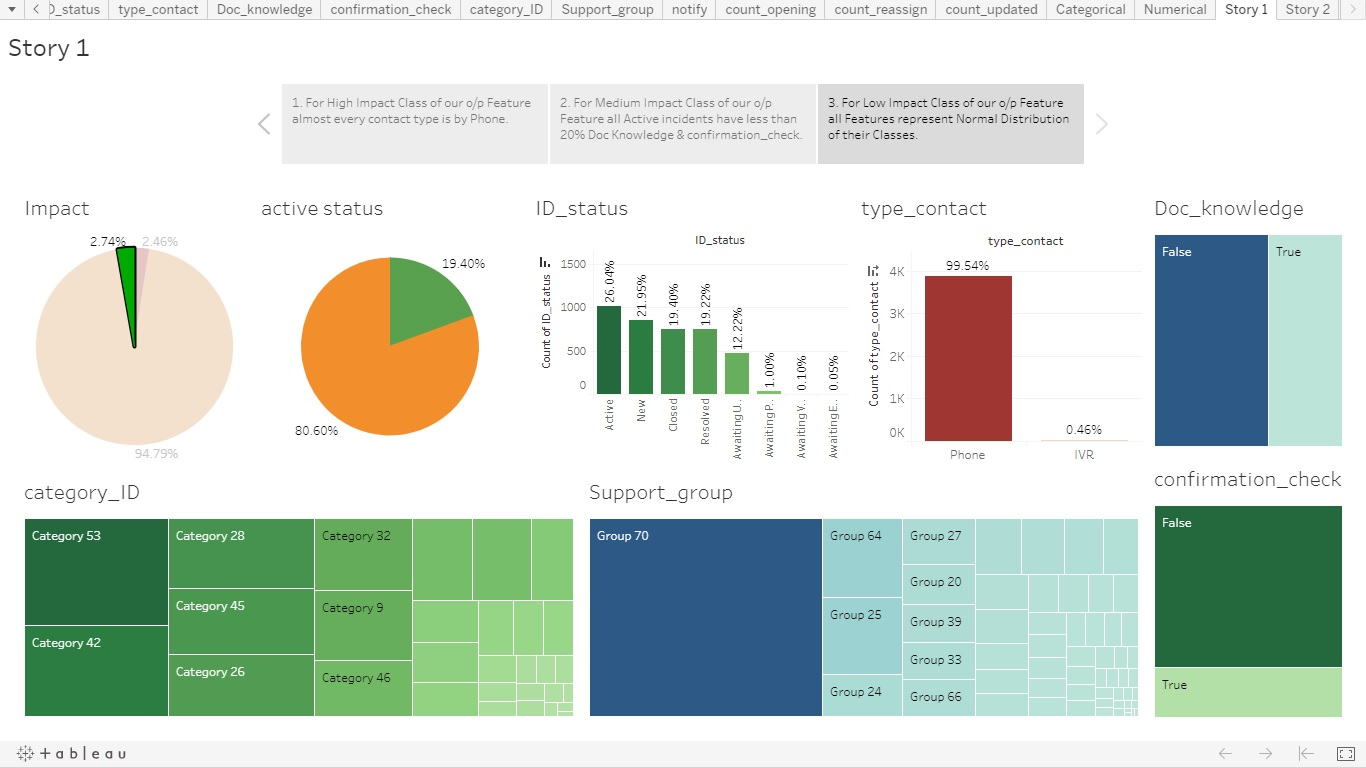

The page's visual inventory and layout, read from the dashboard file:
{"tool":"tableau","page":{"name":"Categorical","canvas":[1000,1000],"units":"permille","ordinal":0},"visuals":[{"type":"worksheet","box":[0,0,1000,1000]},{"type":"worksheet","param":"horz","box":[6.9,13.5,986.1,973]},{"type":"worksheet","box":[6.9,13.5,809.5,973]},{"type":"worksheet","title":"Impact","mark":"Pie","box":[6.9,13.5,169.7,510.1]},{"type":"worksheet","title":"active status","mark":"Pie","box":[176.6,13.5,196.5,510.1]},{"type":"worksheet","title":"ID_status","mark":"Automatic","rows":["ID_status"],"cols":["ID_status"],"box":[373.1,13.5,233.8,510.1]},{"type":"worksheet","title":"type_contact","mark":"Bar","rows":["type_contact"],"cols":["type_contact"],"box":[606.9,13.5,209.6,510.1]},{"type":"worksheet","param":"vert","box":[816.5,13.5,176.6,973]},{"type":"worksheet","title":"Doc_knowledge","mark":"Automatic","box":[816.5,13.5,176.6,486.5]},{"type":"worksheet","title":"confirmation_check","mark":"Automatic","box":[816.5,500,176.6,486.5]},{"type":"worksheet","title":"category_ID","mark":"Automatic","box":[6.9,523.6,404.7,462.9]},{"type":"worksheet","title":"Support_group","mark":"Automatic","box":[411.7,523.6,404.8,462.9]}]}

Visuals, with their boxes on the dashboard's canvas, which has no fixed pixel size, in thousandths of its width and height (x1, y1, x2, y2). These are canvas units, not pixel positions in the 1366x768 screenshot, which may show the page scaled, cropped or inside an application window:
worksheet: bbox=(0, 0, 1000, 1000)
worksheet: bbox=(7, 14, 993, 986)
worksheet: bbox=(7, 14, 816, 986)
"Impact" worksheet (Pie marks): bbox=(7, 14, 177, 524)
"active status" worksheet (Pie marks): bbox=(177, 14, 373, 524)
"ID_status" worksheet: bbox=(373, 14, 607, 524)
"type_contact" worksheet (Bar marks): bbox=(607, 14, 816, 524)
worksheet: bbox=(816, 14, 993, 986)
"Doc_knowledge" worksheet: bbox=(816, 14, 993, 500)
"confirmation_check" worksheet: bbox=(816, 500, 993, 986)
"category_ID" worksheet: bbox=(7, 524, 412, 986)
"Support_group" worksheet: bbox=(412, 524, 816, 986)
